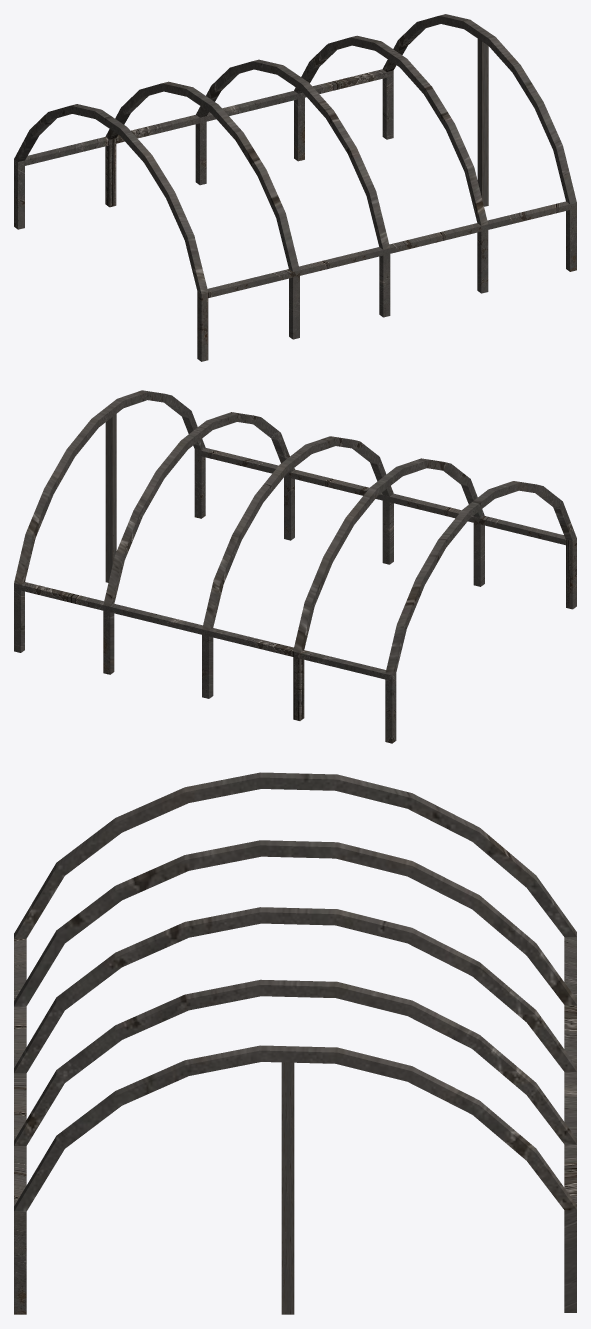
The model's file is estruct_invernadero.obj.
3 renders of one model, top to bottom at view 1: azimuth 30°, elevation 25°; view 2: azimuth 150°, elevation 25°; view 3: azimuth 270°, elevation 25°, orthographic. The views are drawn at different scales.
Visible parts, largest first — view 1: Cube.095, Cube.094, Cube.099, Cube.097, Cube.089, Cube.103, Cube.104, Cube.114; view 2: Cube.094, Cube.095, Cube.099, Cube.103, Cube.097, Cube.104, Cube.089, Cube.114; view 3: Cube.099, Cube.097, Cube.089, Cube.103, Cube.104, Cube.094, Cube.095, Cube.114.
Boxes of the visible parts, <box> form: Cube.095: <box>197,201,576,361</box>; Cube.094: <box>14,69,393,229</box>; Cube.099: <box>14,104,208,294</box>; Cube.097: <box>383,14,576,204</box>; Cube.089: <box>105,81,299,271</box>; Cube.103: <box>196,59,389,249</box>; Cube.104: <box>294,35,487,225</box>; Cube.114: <box>477,38,488,206</box>; Cube.094: <box>14,582,396,743</box>; Cube.095: <box>194,447,576,609</box>; Cube.099: <box>385,481,576,675</box>; Cube.103: <box>202,436,393,630</box>; Cube.097: <box>14,390,205,584</box>; Cube.104: <box>103,412,294,606</box>; Cube.089: <box>293,458,484,652</box>; Cube.114: <box>105,413,116,582</box>; Cube.099: <box>14,772,576,938</box>; Cube.097: <box>14,1045,576,1211</box>; Cube.089: <box>14,840,576,1006</box>; Cube.103: <box>14,907,576,1073</box>; Cube.104: <box>14,979,576,1145</box>; Cube.094: <box>564,937,576,1312</box>; Cube.095: <box>14,938,26,1314</box>; Cube.114: <box>281,1062,294,1314</box>.
Bounding box in the file's own units: 67.21 × 29.58 × 57.18.
